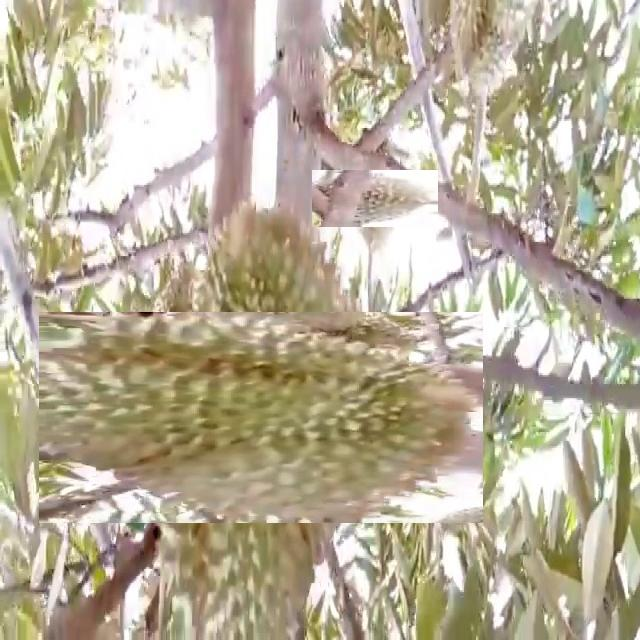durian: (97, 254, 425, 582), (448, 2, 543, 98), (329, 152, 420, 245)
